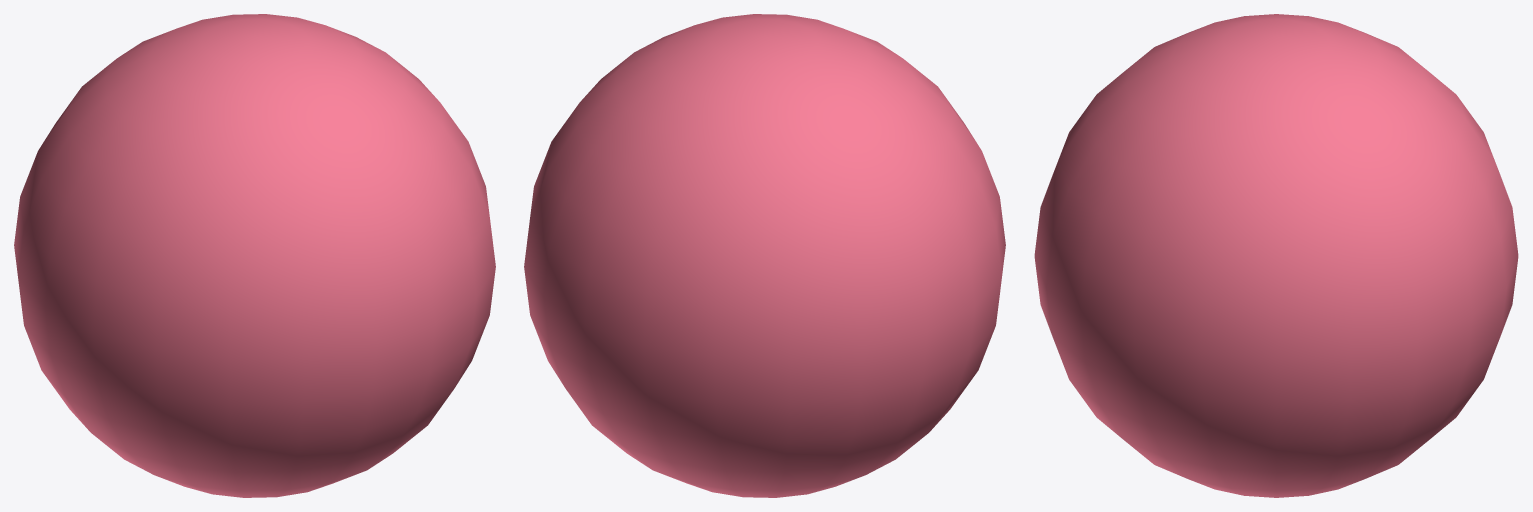
The model's file is balloon.glb.
3 views of the same model, side by side, from view 1: azimuth 30°, elevation 25°; view 2: azimuth 150°, elevation 25°; view 3: azimuth 270°, elevation 25° (orthographic).
Parts seen in each view (by area): view 1: primitive; view 2: primitive; view 3: primitive.
Part boxes in pixels (x1,y1,x2,y2): primitive: (14,14,495,497); primitive: (524,14,1005,497); primitive: (1034,14,1518,497).
Bounding box in the file's own units: 0.24 × 0.24 × 0.24.
